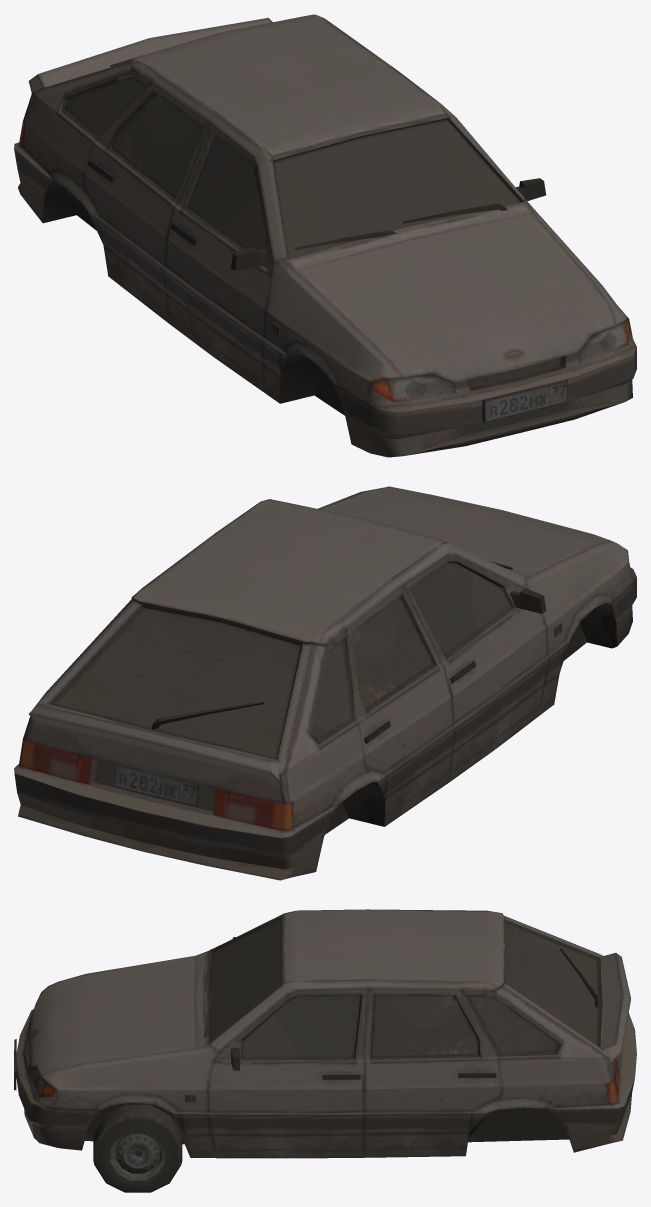
The model's file is vaz_2114.fbx.
3 renders of one model, top to bottom at view 1: azimuth 30°, elevation 25°; view 2: azimuth 150°, elevation 25°; view 3: azimuth 270°, elevation 25°, orthographic. The views are drawn at different scales.
Visible parts, largest first — view 1: bz_vaz2114, bz_plate01; view 2: bz_vaz2114, bz_plate02; view 3: bz_vaz2114, bz_wheel_01.
Part boxes in pixels (x1,y1,x2,y2): bz_vaz2114: (14, 14, 636, 457); bz_plate01: (482, 379, 567, 422); bz_vaz2114: (14, 486, 636, 880); bz_plate02: (113, 764, 200, 806); bz_vaz2114: (16, 909, 636, 1158); bz_wheel_01: (93, 1104, 182, 1192).
Size of the model in its own units: 1.93 by 1.44 by 4.15.
